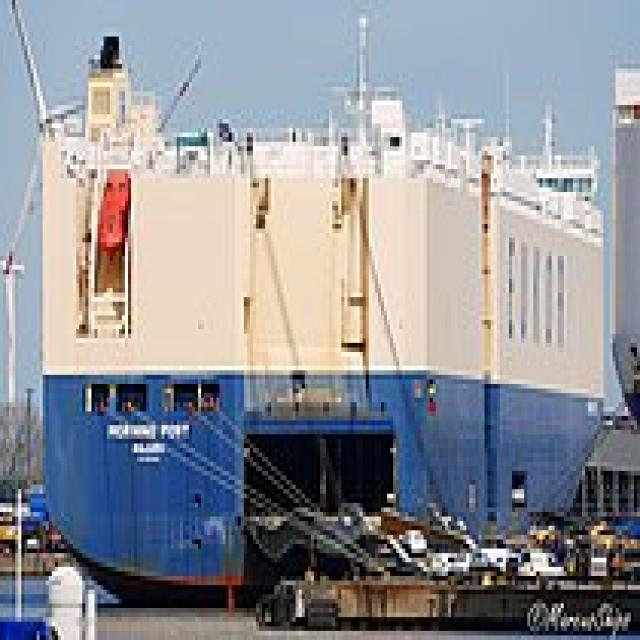Carrier: (34, 19, 606, 604)
